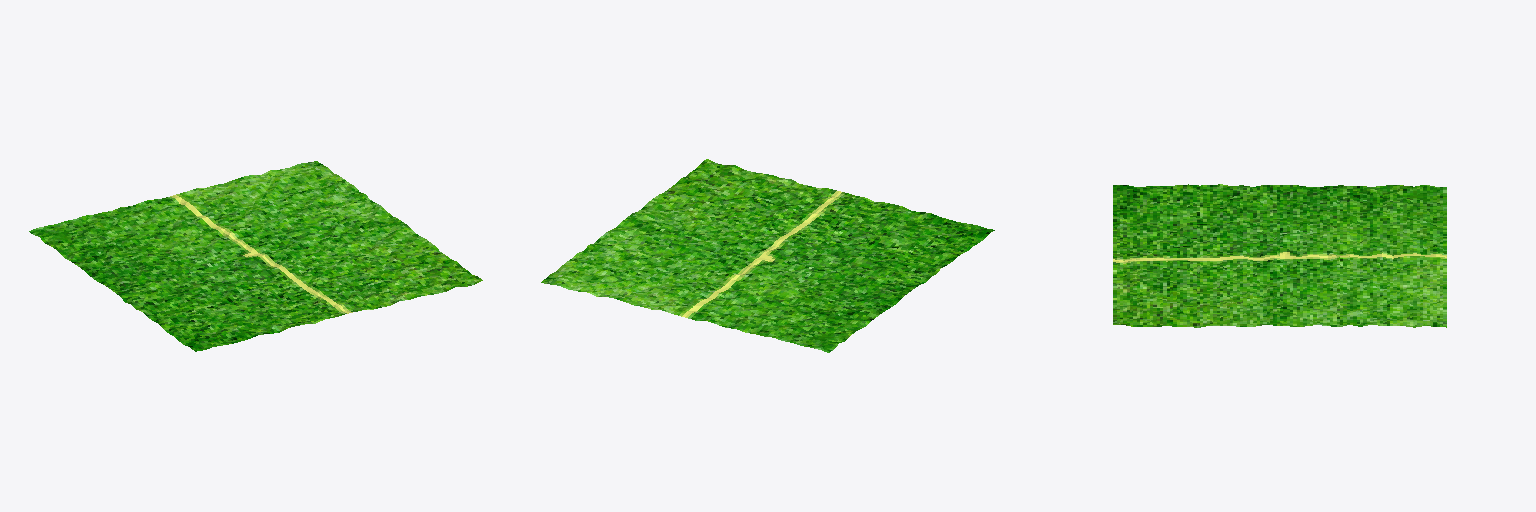
The picture shows the model from 3 angles: view 1: azimuth 30°, elevation 25°; view 2: azimuth 150°, elevation 25°; view 3: azimuth 270°, elevation 25°; orthographic projection.
Parts seen in each view (by area): view 1: Plane; view 2: Plane; view 3: Plane.
Part boxes in pixels (x1,y1,x2,y2): Plane: (29,161,482,351); Plane: (541,159,994,352); Plane: (1113,184,1446,327).
Size of the model in its own units: 2 by 0.02 by 2.
1 materials, 1 textured.